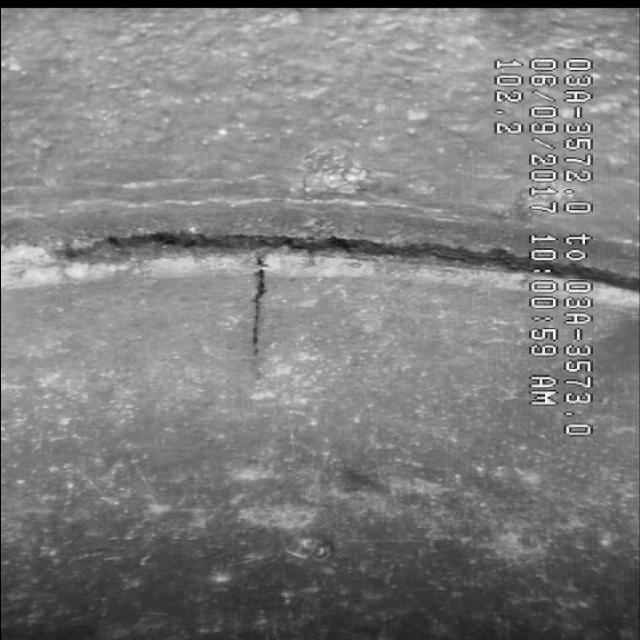Crack: (223, 267, 319, 389)
